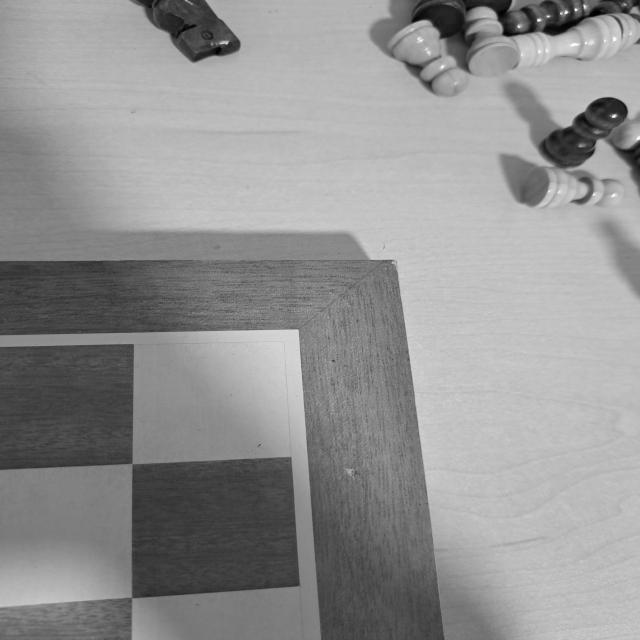chess-table-corners: (262, 320, 313, 352)
